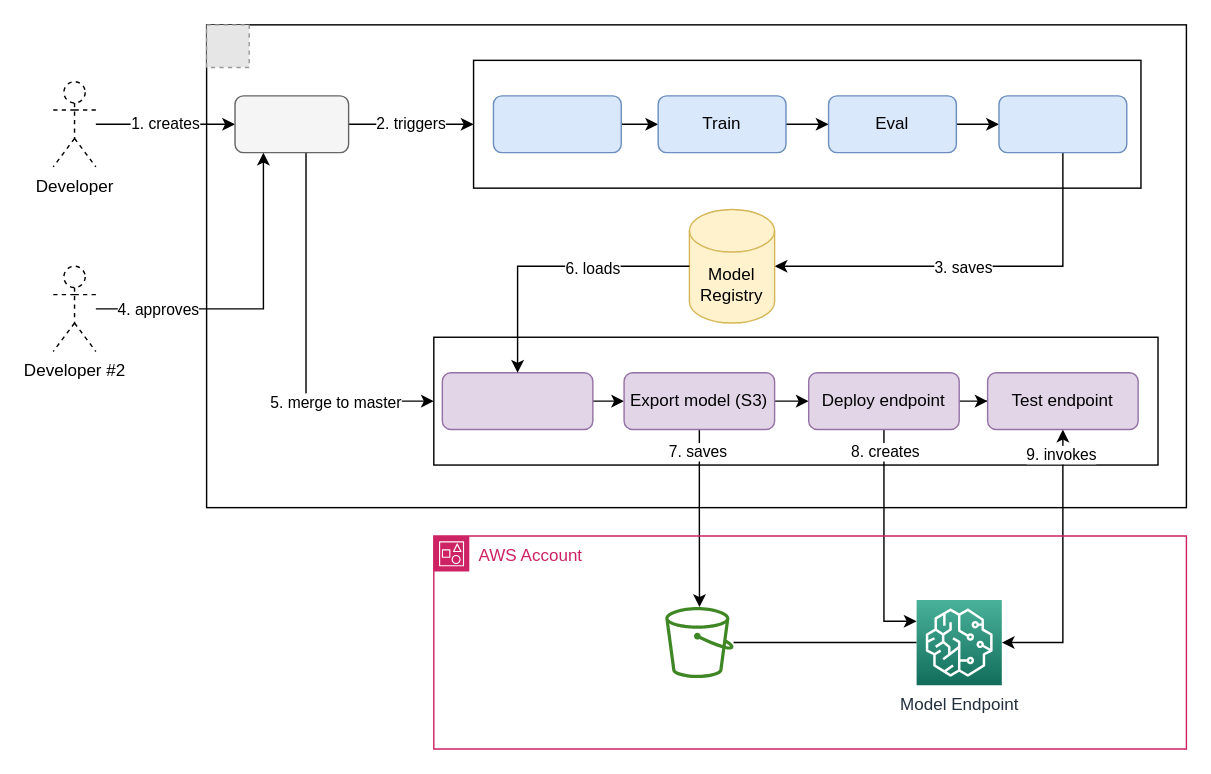
The diagram is 1211 pixels wide and 774 high, and some of its shapes have lost their labels. Grey dashed boxes stand in for pictures. Each missing label, with the box of its shape:
Download Data: (492, 94, 621, 153)
Download Model: (441, 371, 593, 430)
Model Artifacts: (665, 606, 733, 677)
Pull Request: (234, 94, 349, 153)
Register: (998, 94, 1127, 153)
